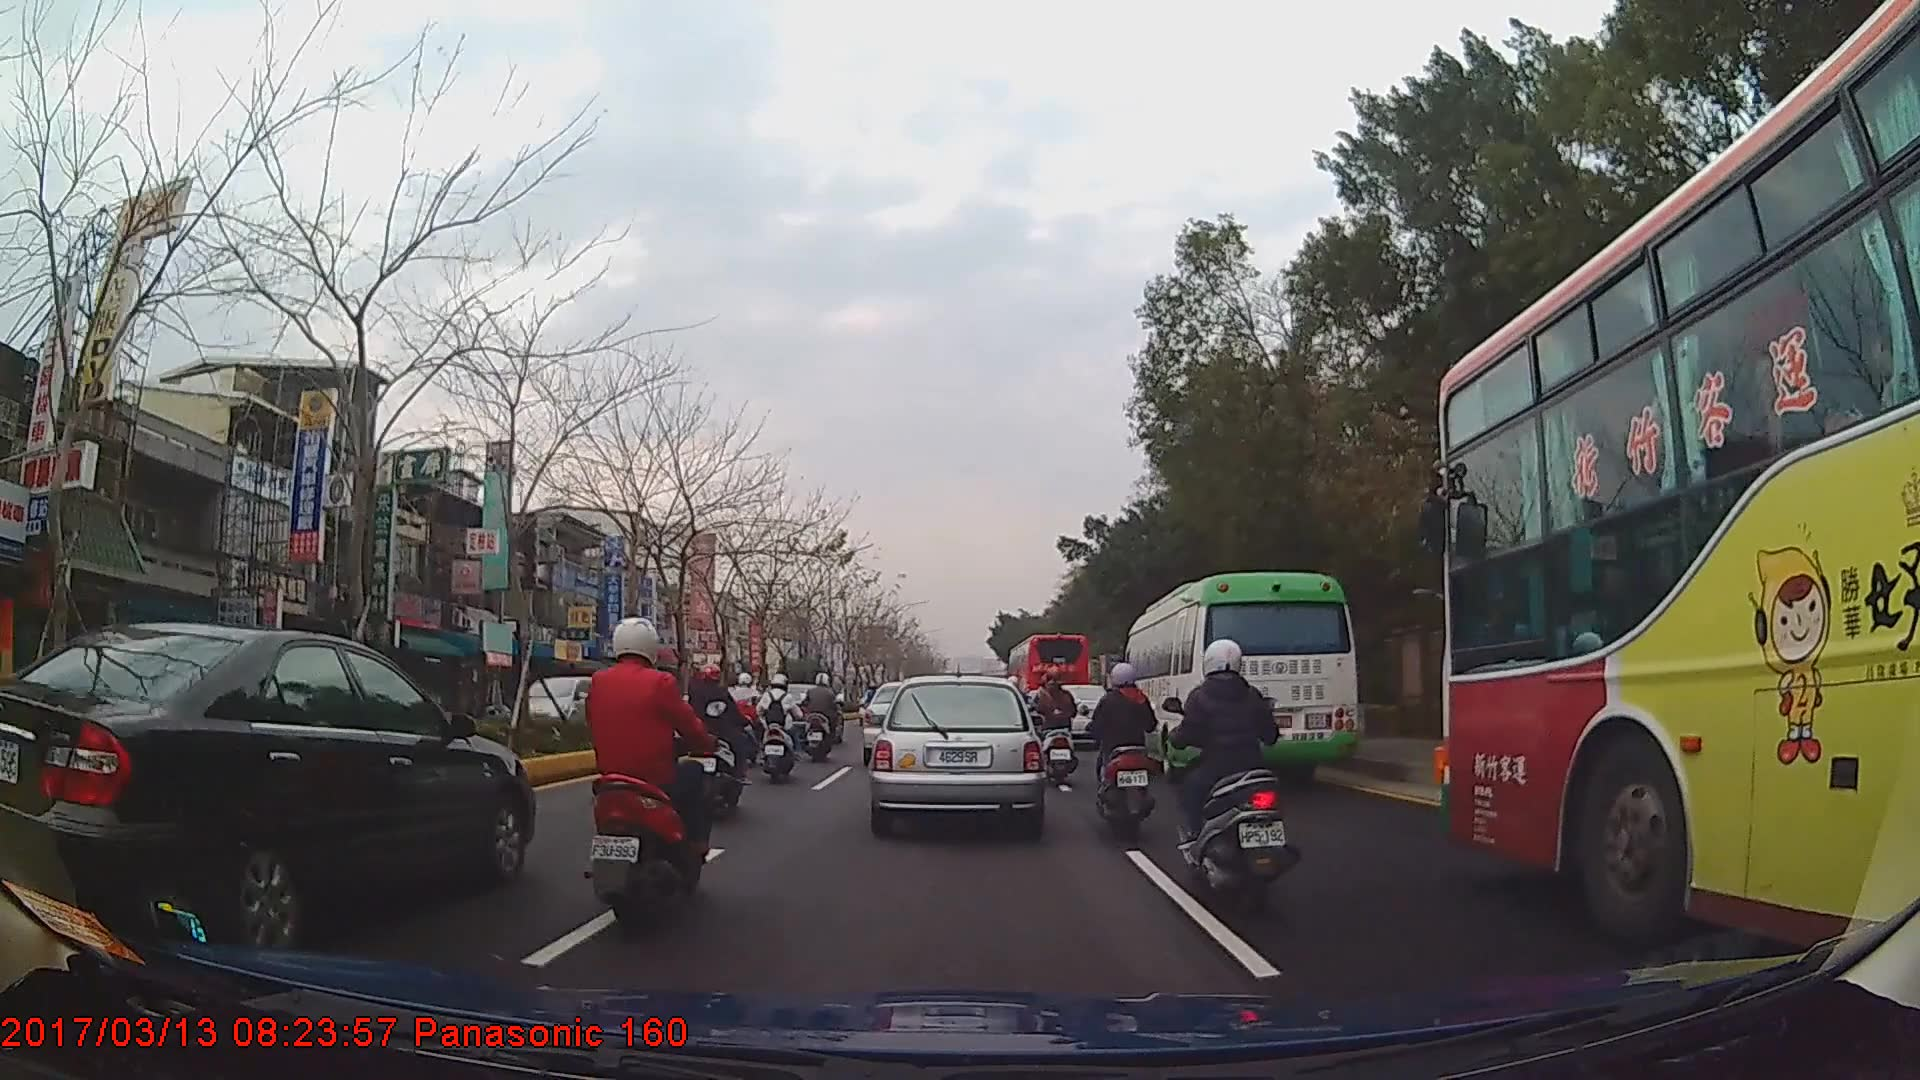rider: (585, 609, 729, 937), (1169, 642, 1304, 911), (1086, 662, 1163, 844), (678, 662, 757, 818), (1036, 662, 1081, 788), (756, 675, 806, 781), (806, 674, 846, 762), (726, 671, 766, 751), (862, 682, 882, 721)
vehicle: (1426, 0, 1920, 968), (0, 618, 533, 957), (1119, 571, 1357, 787), (870, 673, 1039, 832), (1007, 632, 1091, 729)
